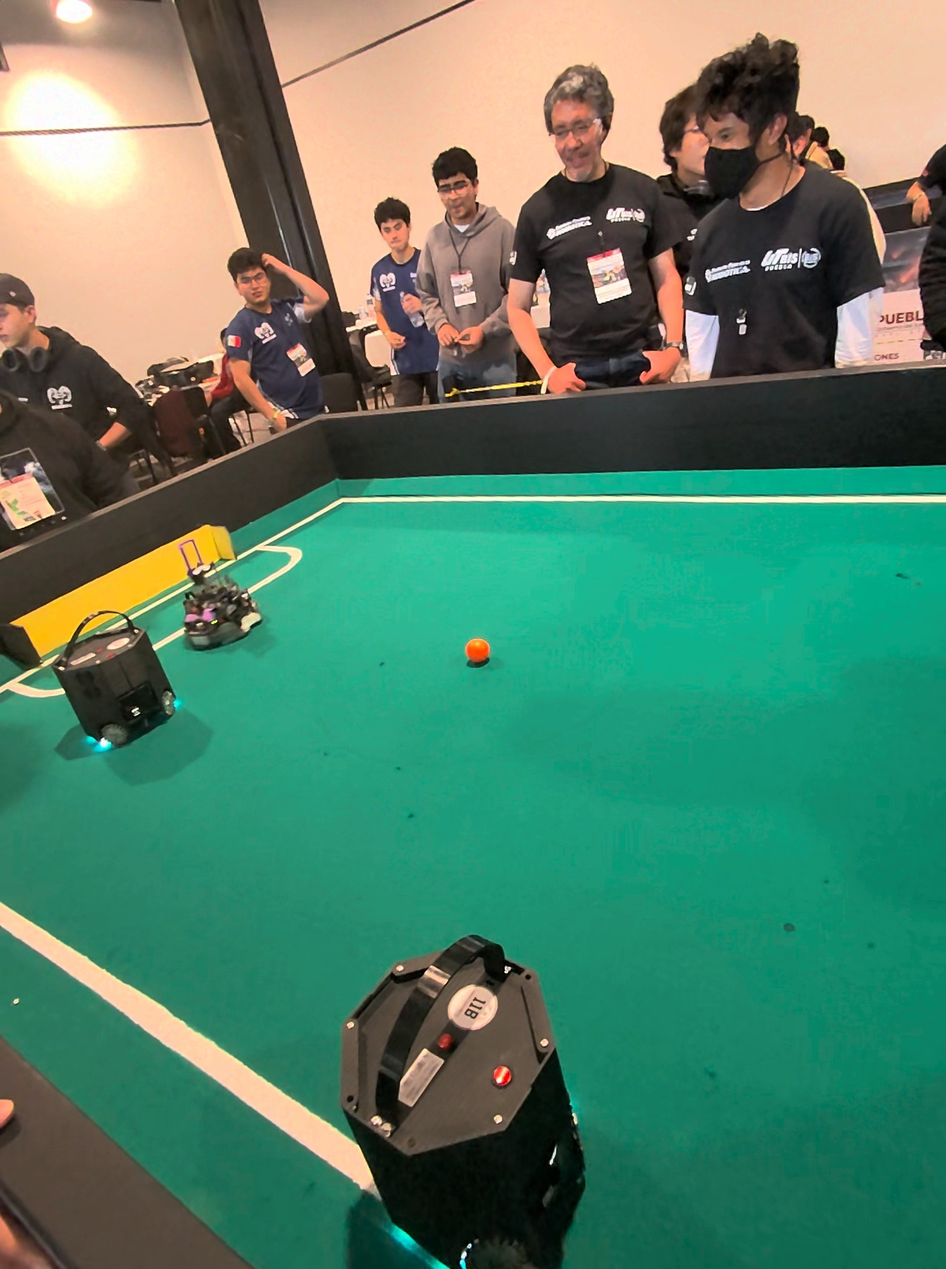Robot: (327, 924, 605, 1265), (46, 603, 193, 776), (179, 521, 266, 652)
pelota: (462, 632, 499, 673)
